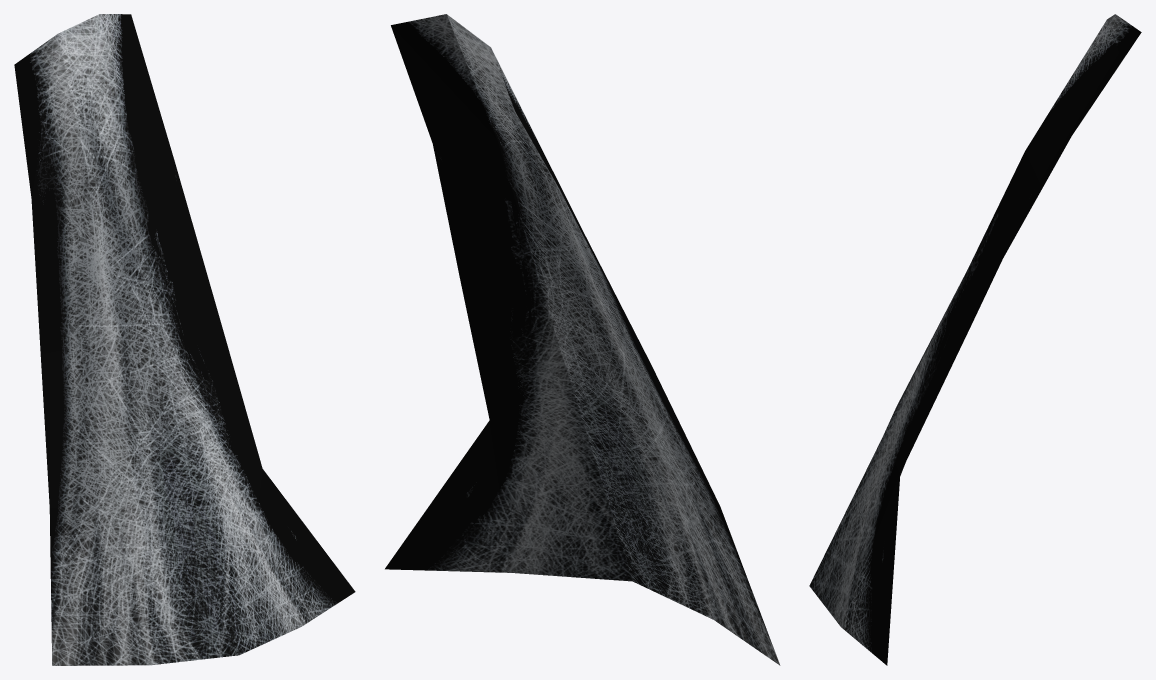
File: Webbing_01.obj
3 renders of one model, left to right at view 1: azimuth 30°, elevation 25°; view 2: azimuth 150°, elevation 25°; view 3: azimuth 270°, elevation 25°, orthographic. The views are drawn at different scales.
Parts seen in each view (by area): view 1: Web_001; view 2: Web_001; view 3: Web_001.
Part boxes in pixels (left/top/right/bottom): Web_001: left=14, top=14, right=355, bottom=665; Web_001: left=385, top=14, right=780, bottom=665; Web_001: left=809, top=14, right=1141, bottom=665.
Bounding box in the file's own units: 78.48 × 133 × 70.55.
